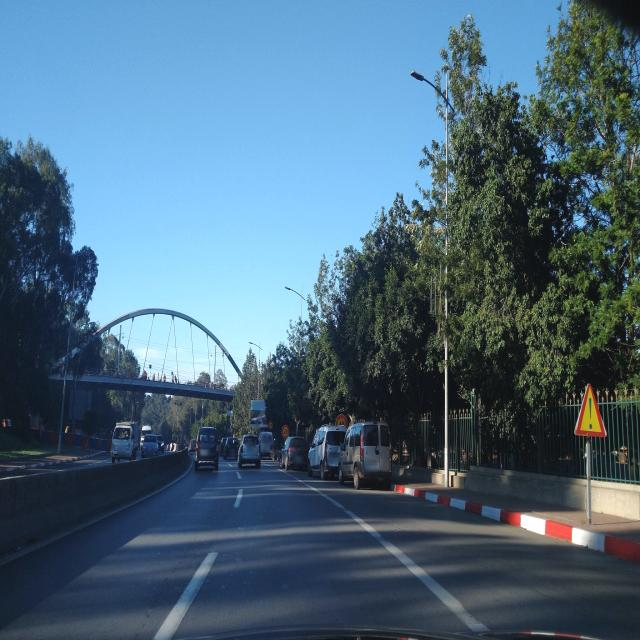car: (337, 419, 392, 490), (307, 424, 346, 481), (110, 420, 142, 463), (194, 425, 219, 472), (280, 436, 308, 472), (237, 433, 261, 469), (259, 430, 274, 461), (141, 432, 158, 458), (224, 436, 239, 461)
